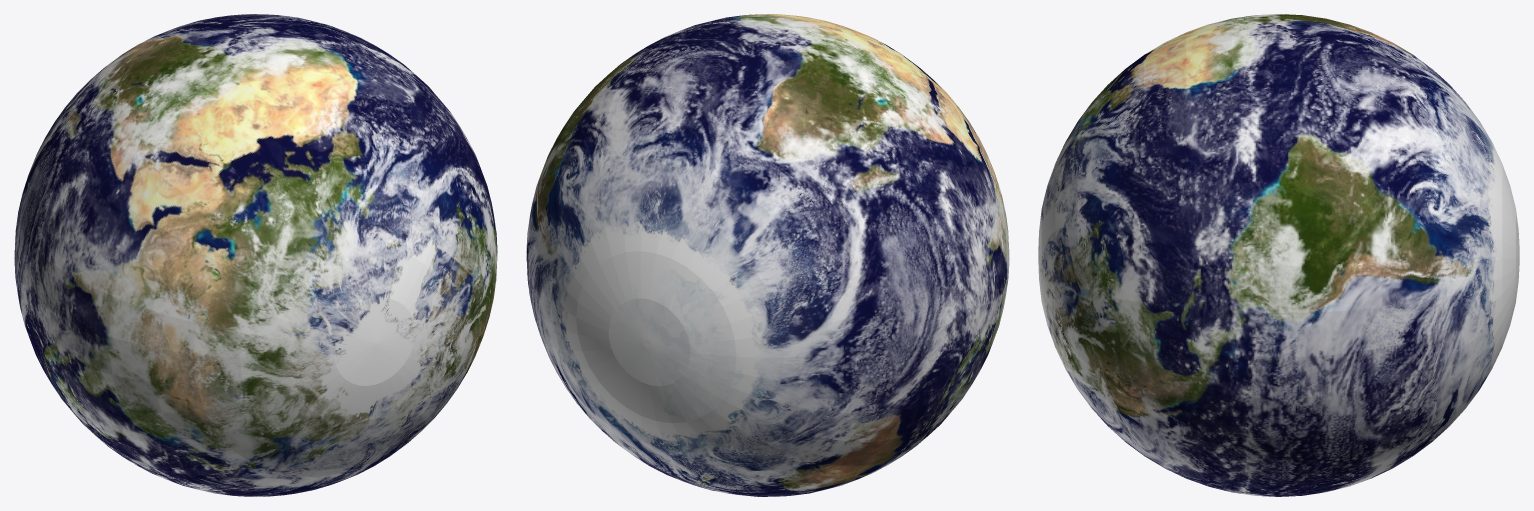
The model's file is earth.obj.
3 renders of one model, left to right at view 1: azimuth 30°, elevation 25°; view 2: azimuth 150°, elevation 25°; view 3: azimuth 270°, elevation 25°, orthographic.
Parts seen in each view (by area): view 1: Sphere.010; view 2: Sphere.010; view 3: Sphere.010.
Part boxes in pixels (x1,y1,x2,y2): Sphere.010: [14, 14, 497, 496]; Sphere.010: [526, 14, 1009, 496]; Sphere.010: [1038, 14, 1519, 496].
Size of the model in its own units: 6.28 by 6.28 by 6.26.
